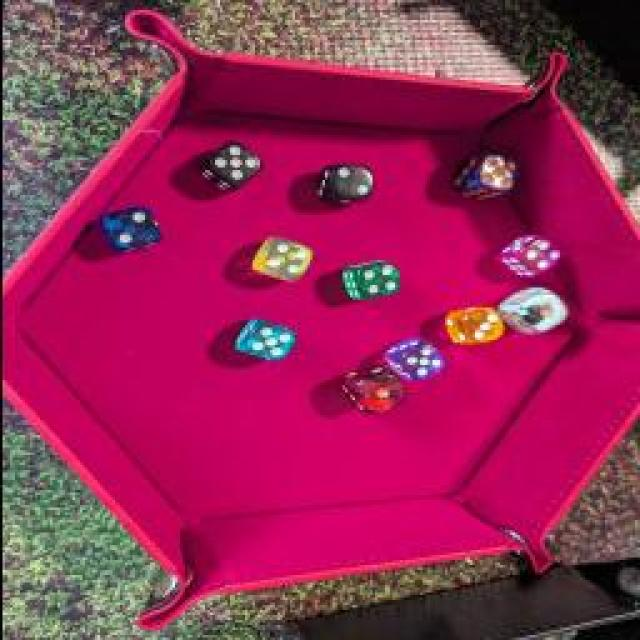dice_1: (332, 367, 410, 415), (502, 284, 566, 334)
dice_2: (98, 205, 168, 253), (315, 160, 380, 205)
dice_3: (438, 304, 504, 348)
dice_4: (247, 236, 315, 282), (496, 234, 564, 278), (341, 258, 401, 300)
dice_5: (195, 139, 267, 191), (228, 315, 302, 363), (455, 149, 520, 196), (383, 338, 445, 384)
